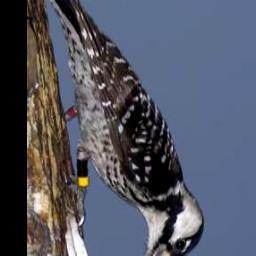Woodpecker: (37, 0, 207, 256)
